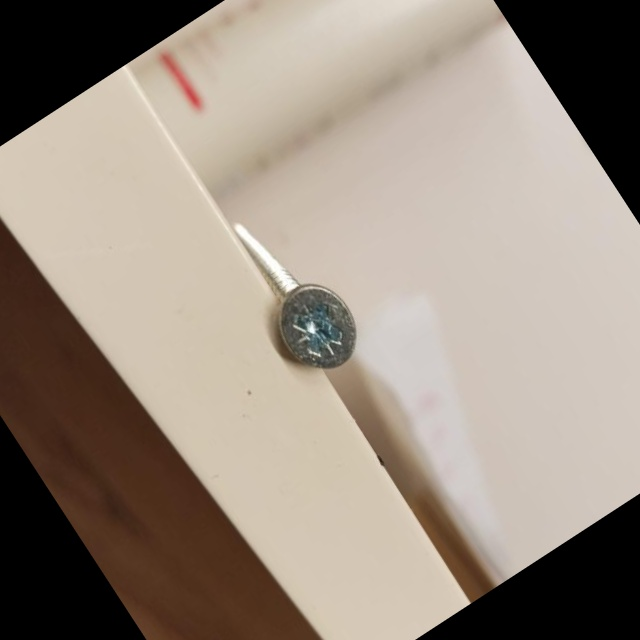pozidriv: (262, 269, 374, 385)
